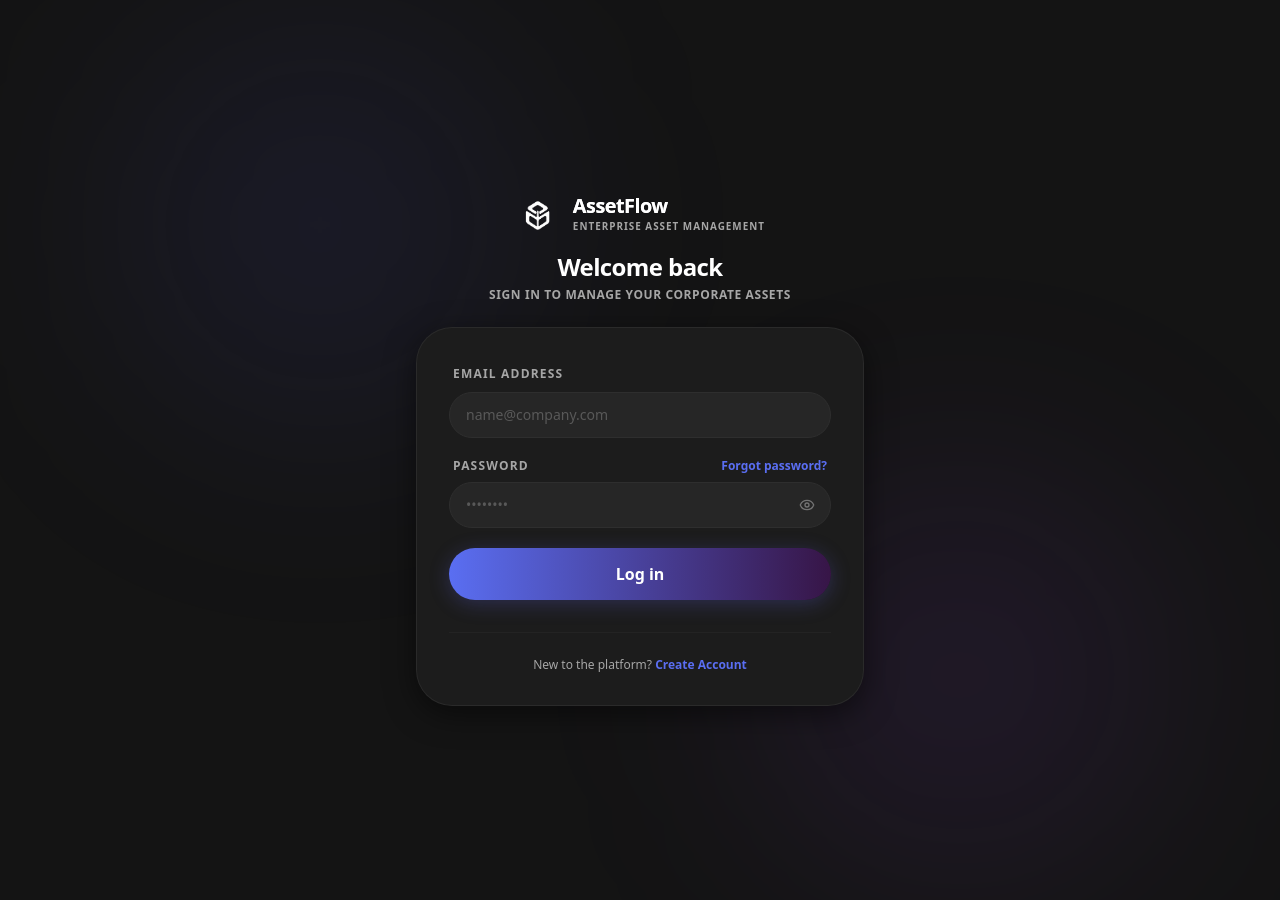
Test: LoginPage Component › displays error message when login fails
The image size is (1280, 900).
Type "wrong@example.com" into the field labelled "Email Address" at point(640, 414), box left=449, top=392, right=831, bottom=438
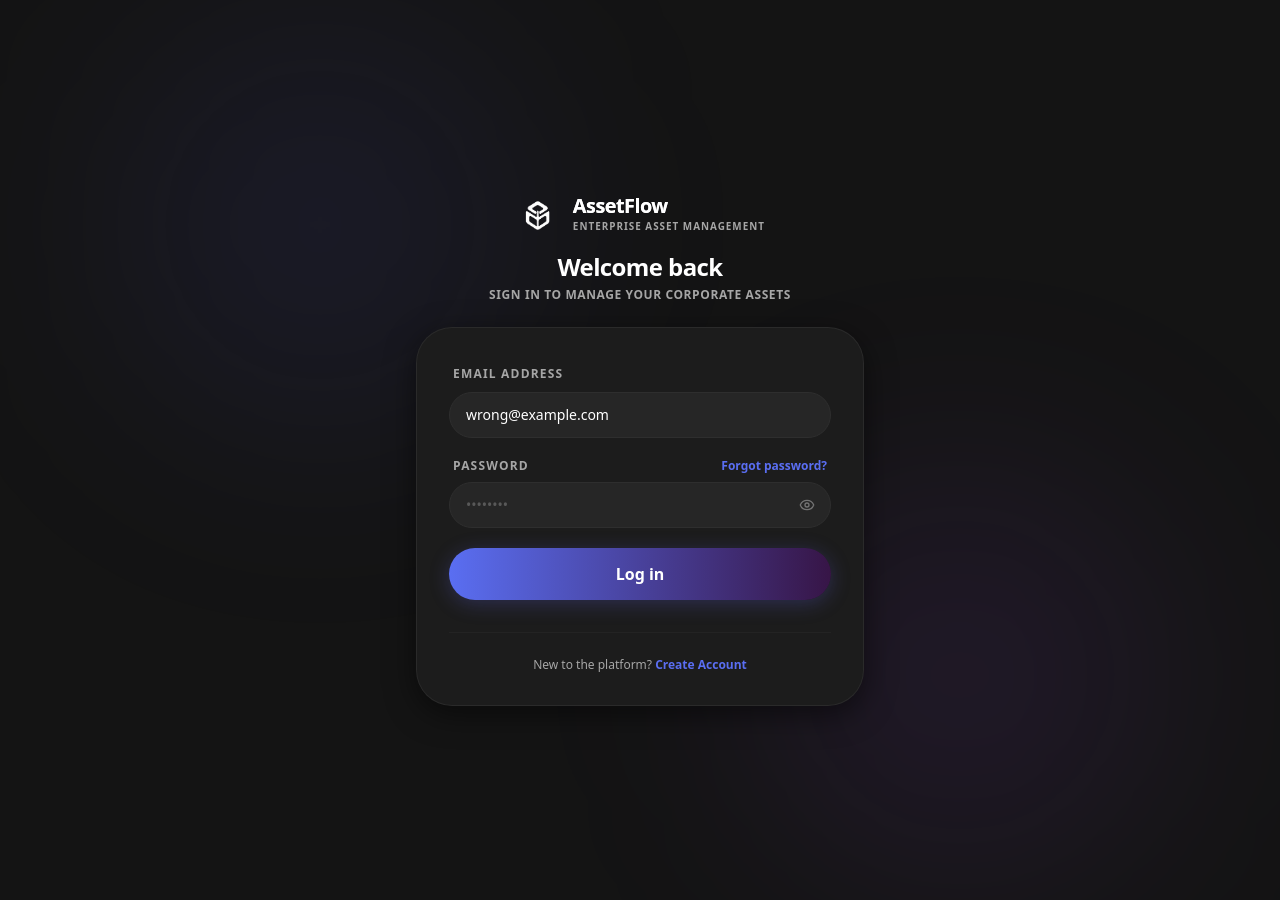
Type "wrongpass" into the password field labelled "Password" at point(640, 504), box left=449, top=482, right=831, bottom=528
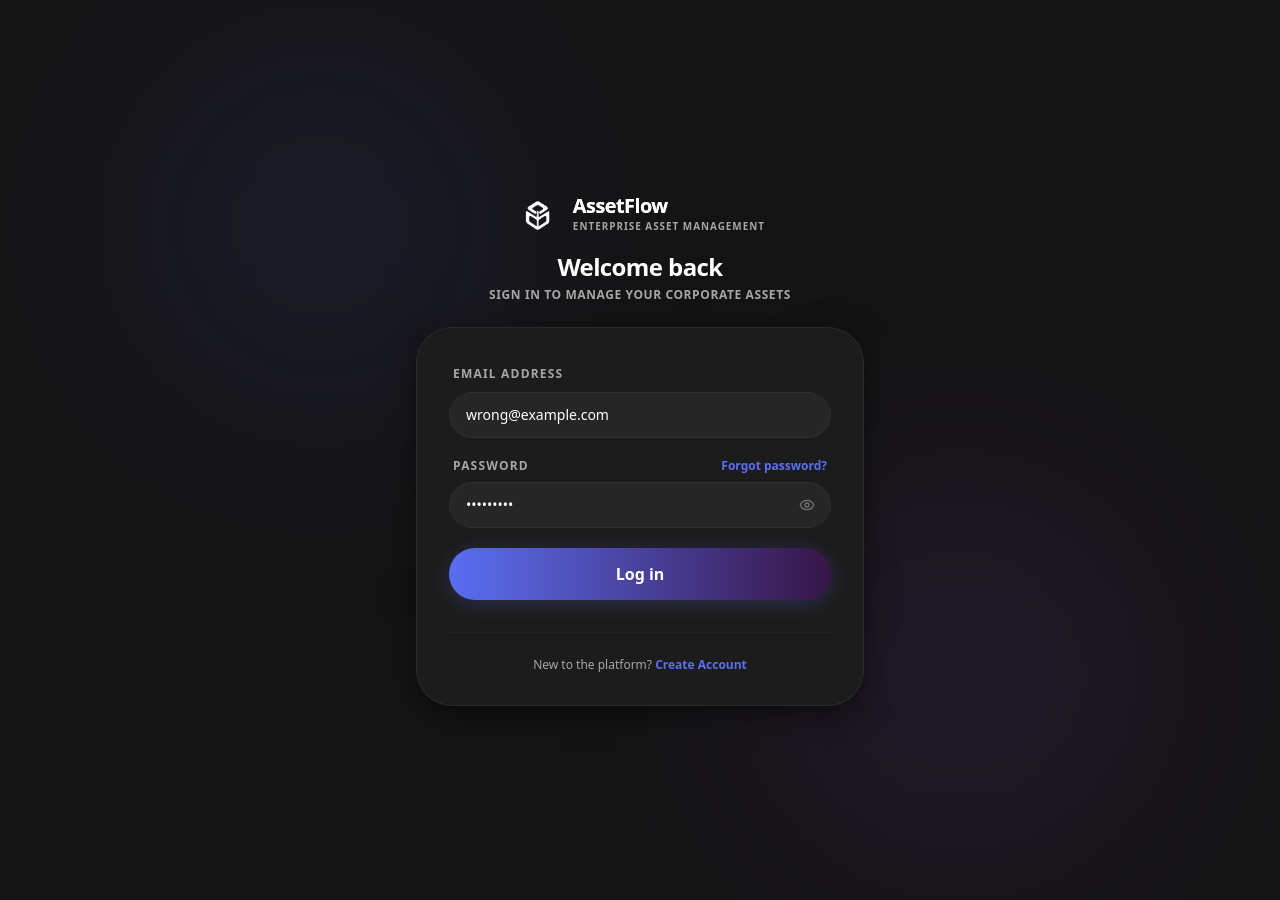
Click the button "Log in" at point(640, 574), box left=449, top=548, right=831, bottom=600
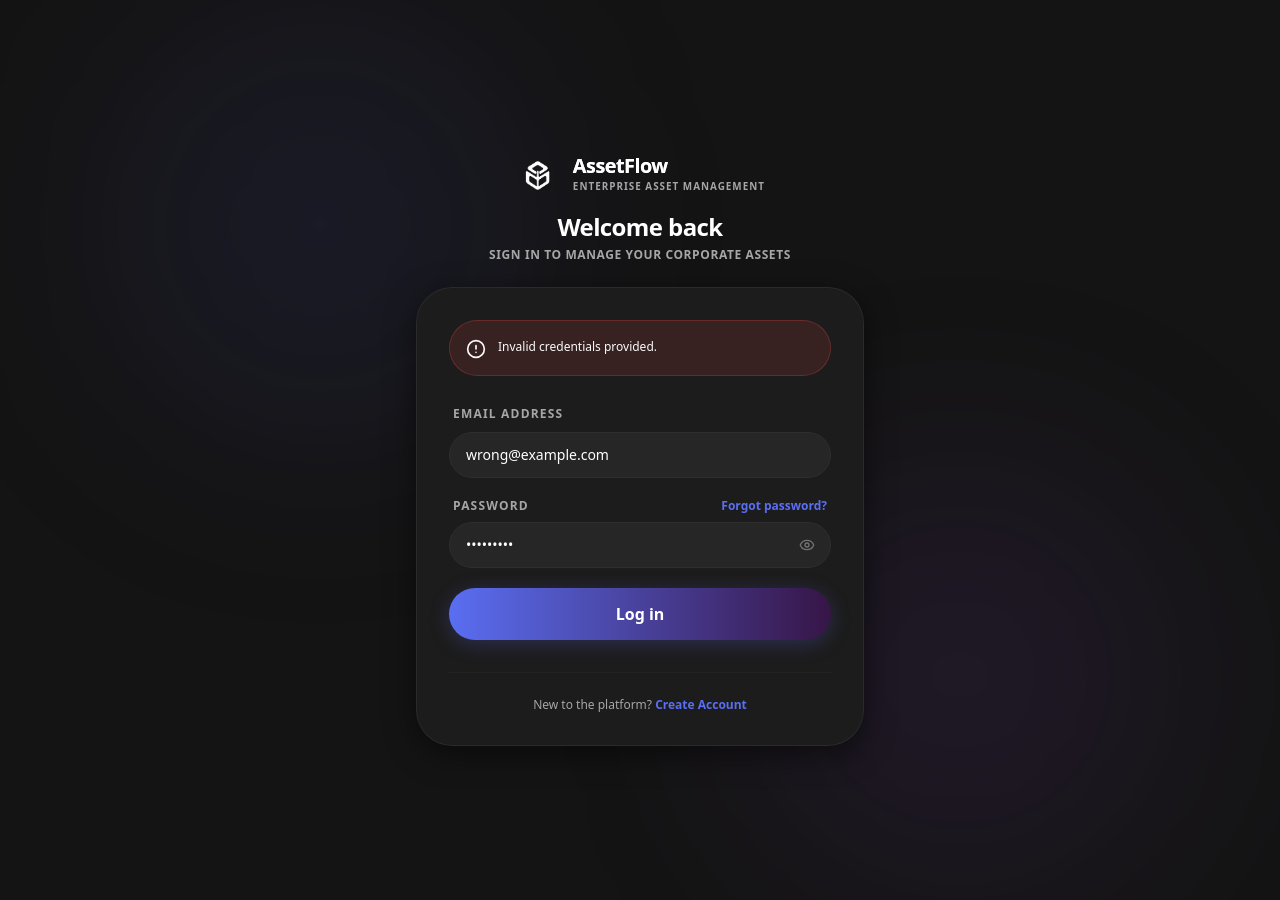
Check: the text "Invalid credentials provided." is shown, box left=498, top=336, right=657, bottom=356
